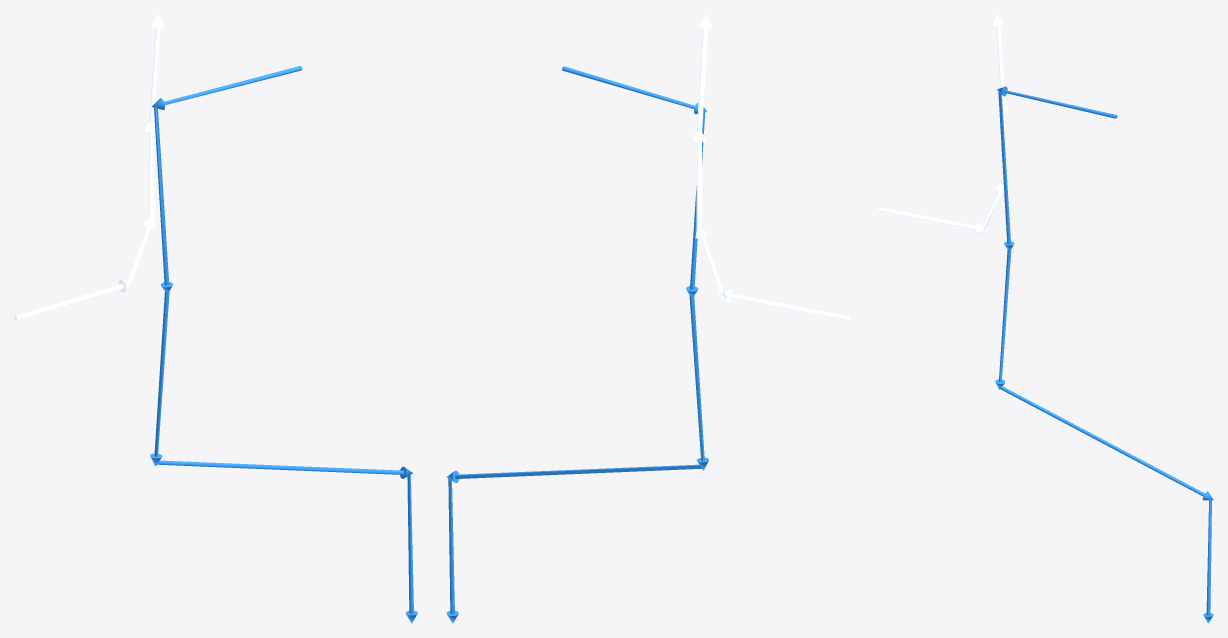
The model's file is deaerator_flow.glb.
3 renders of one model, left to right at view 1: azimuth 30°, elevation 25°; view 2: azimuth 150°, elevation 25°; view 3: azimuth 330°, elevation 25°, orthographic. The views are drawn at different scales.
Parts seen in each view (by area): view 1: feedwater, steam; view 2: feedwater, steam; view 3: feedwater, steam.
Boxes of the visible parts, box(x1,y1,x2,y2) form: feedwater: box(150, 66, 417, 623); steam: box(14, 14, 164, 320); feedwater: box(446, 66, 708, 623); steam: box(692, 14, 849, 321); feedwater: box(995, 86, 1213, 623); steam: box(878, 14, 1008, 233).
Bounding box in the file's own units: 1.74 × 2.79 × 0.0985.
